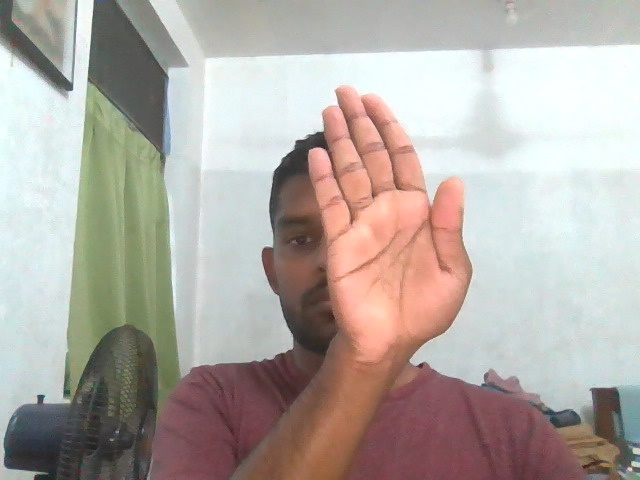bye: (291, 80, 482, 372)
